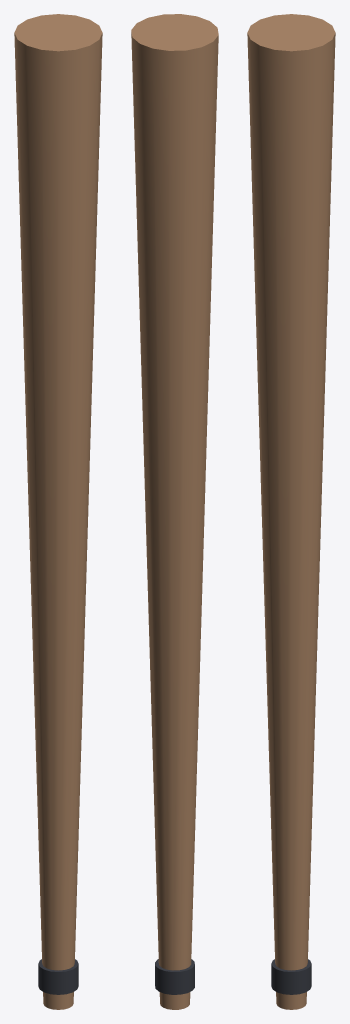
File: bat.glb
3 renders of one model, left to right at view 1: azimuth 90°, elevation 25°; view 2: azimuth 150°, elevation 25°; view 3: azimuth 270°, elevation 25°, orthographic.
Visible parts, largest first — view 1: cyl (×2); view 2: cyl (×2); view 3: cyl (×2).
Part boxes in pixels (bbox=[...]): cyl (×2): bbox=[14, 14, 102, 1009]; cyl (×2): bbox=[131, 14, 218, 1009]; cyl (×2): bbox=[247, 14, 335, 1009].
Bounding box in the file's own units: 0.07 × 0.85 × 0.07.
